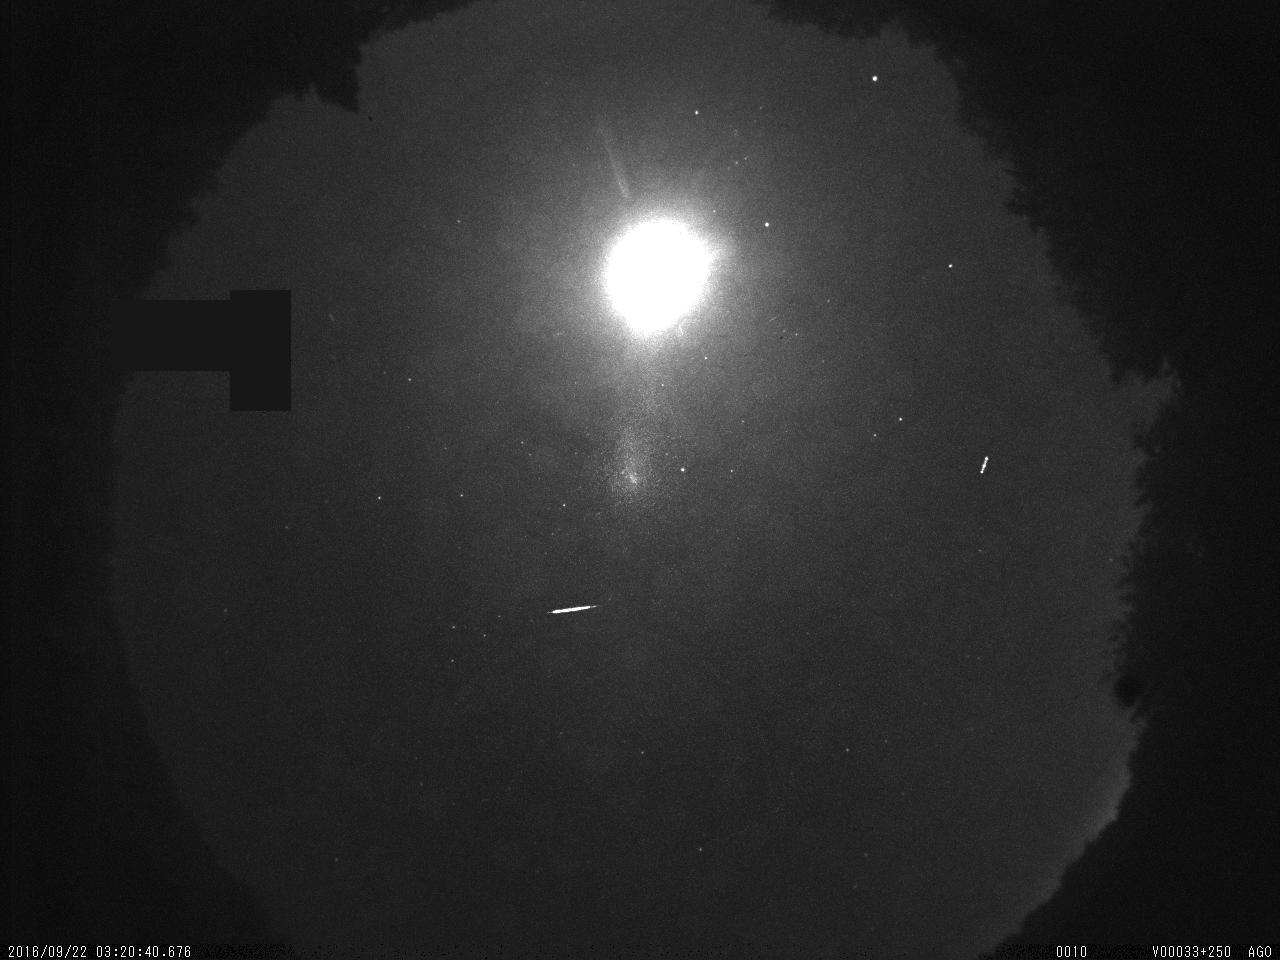meteor: (537, 594, 607, 626)
satelite: (977, 450, 994, 479)
